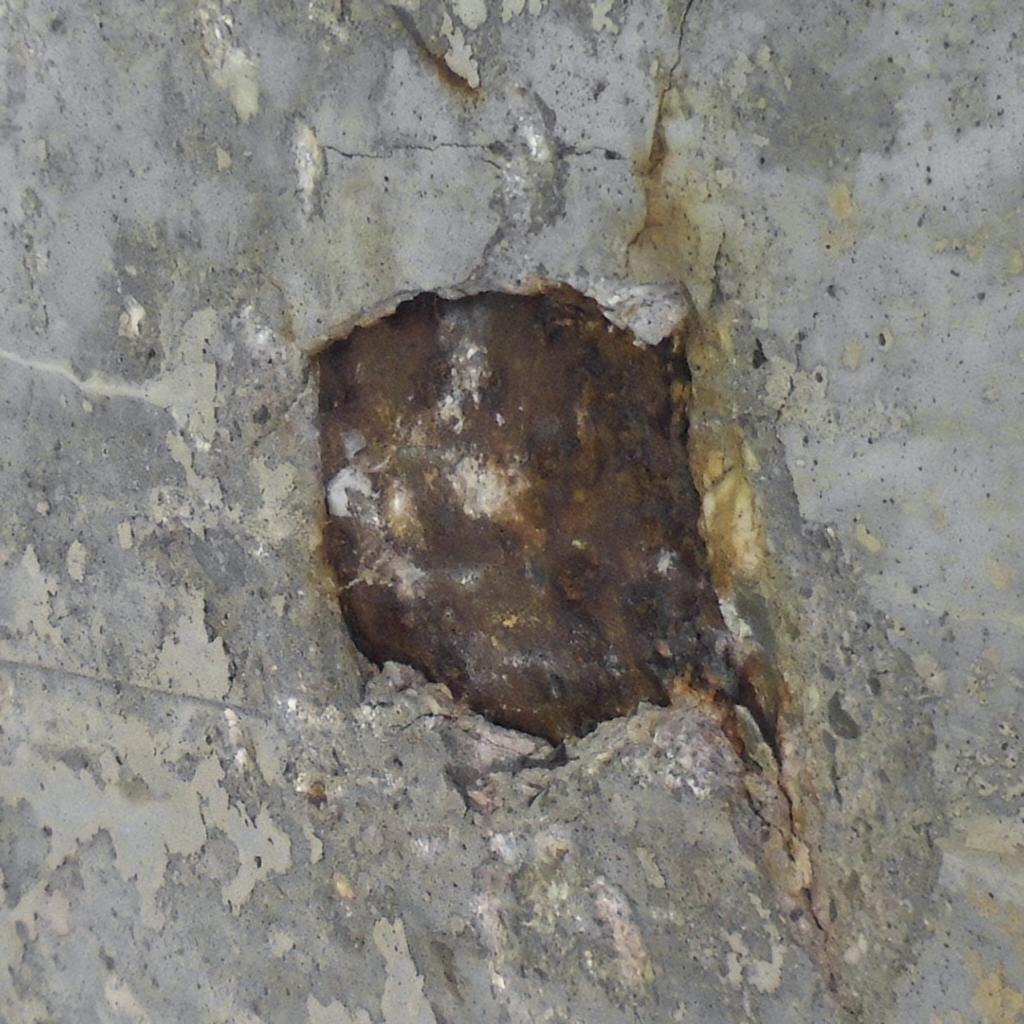spalling: (318, 290, 738, 742)
